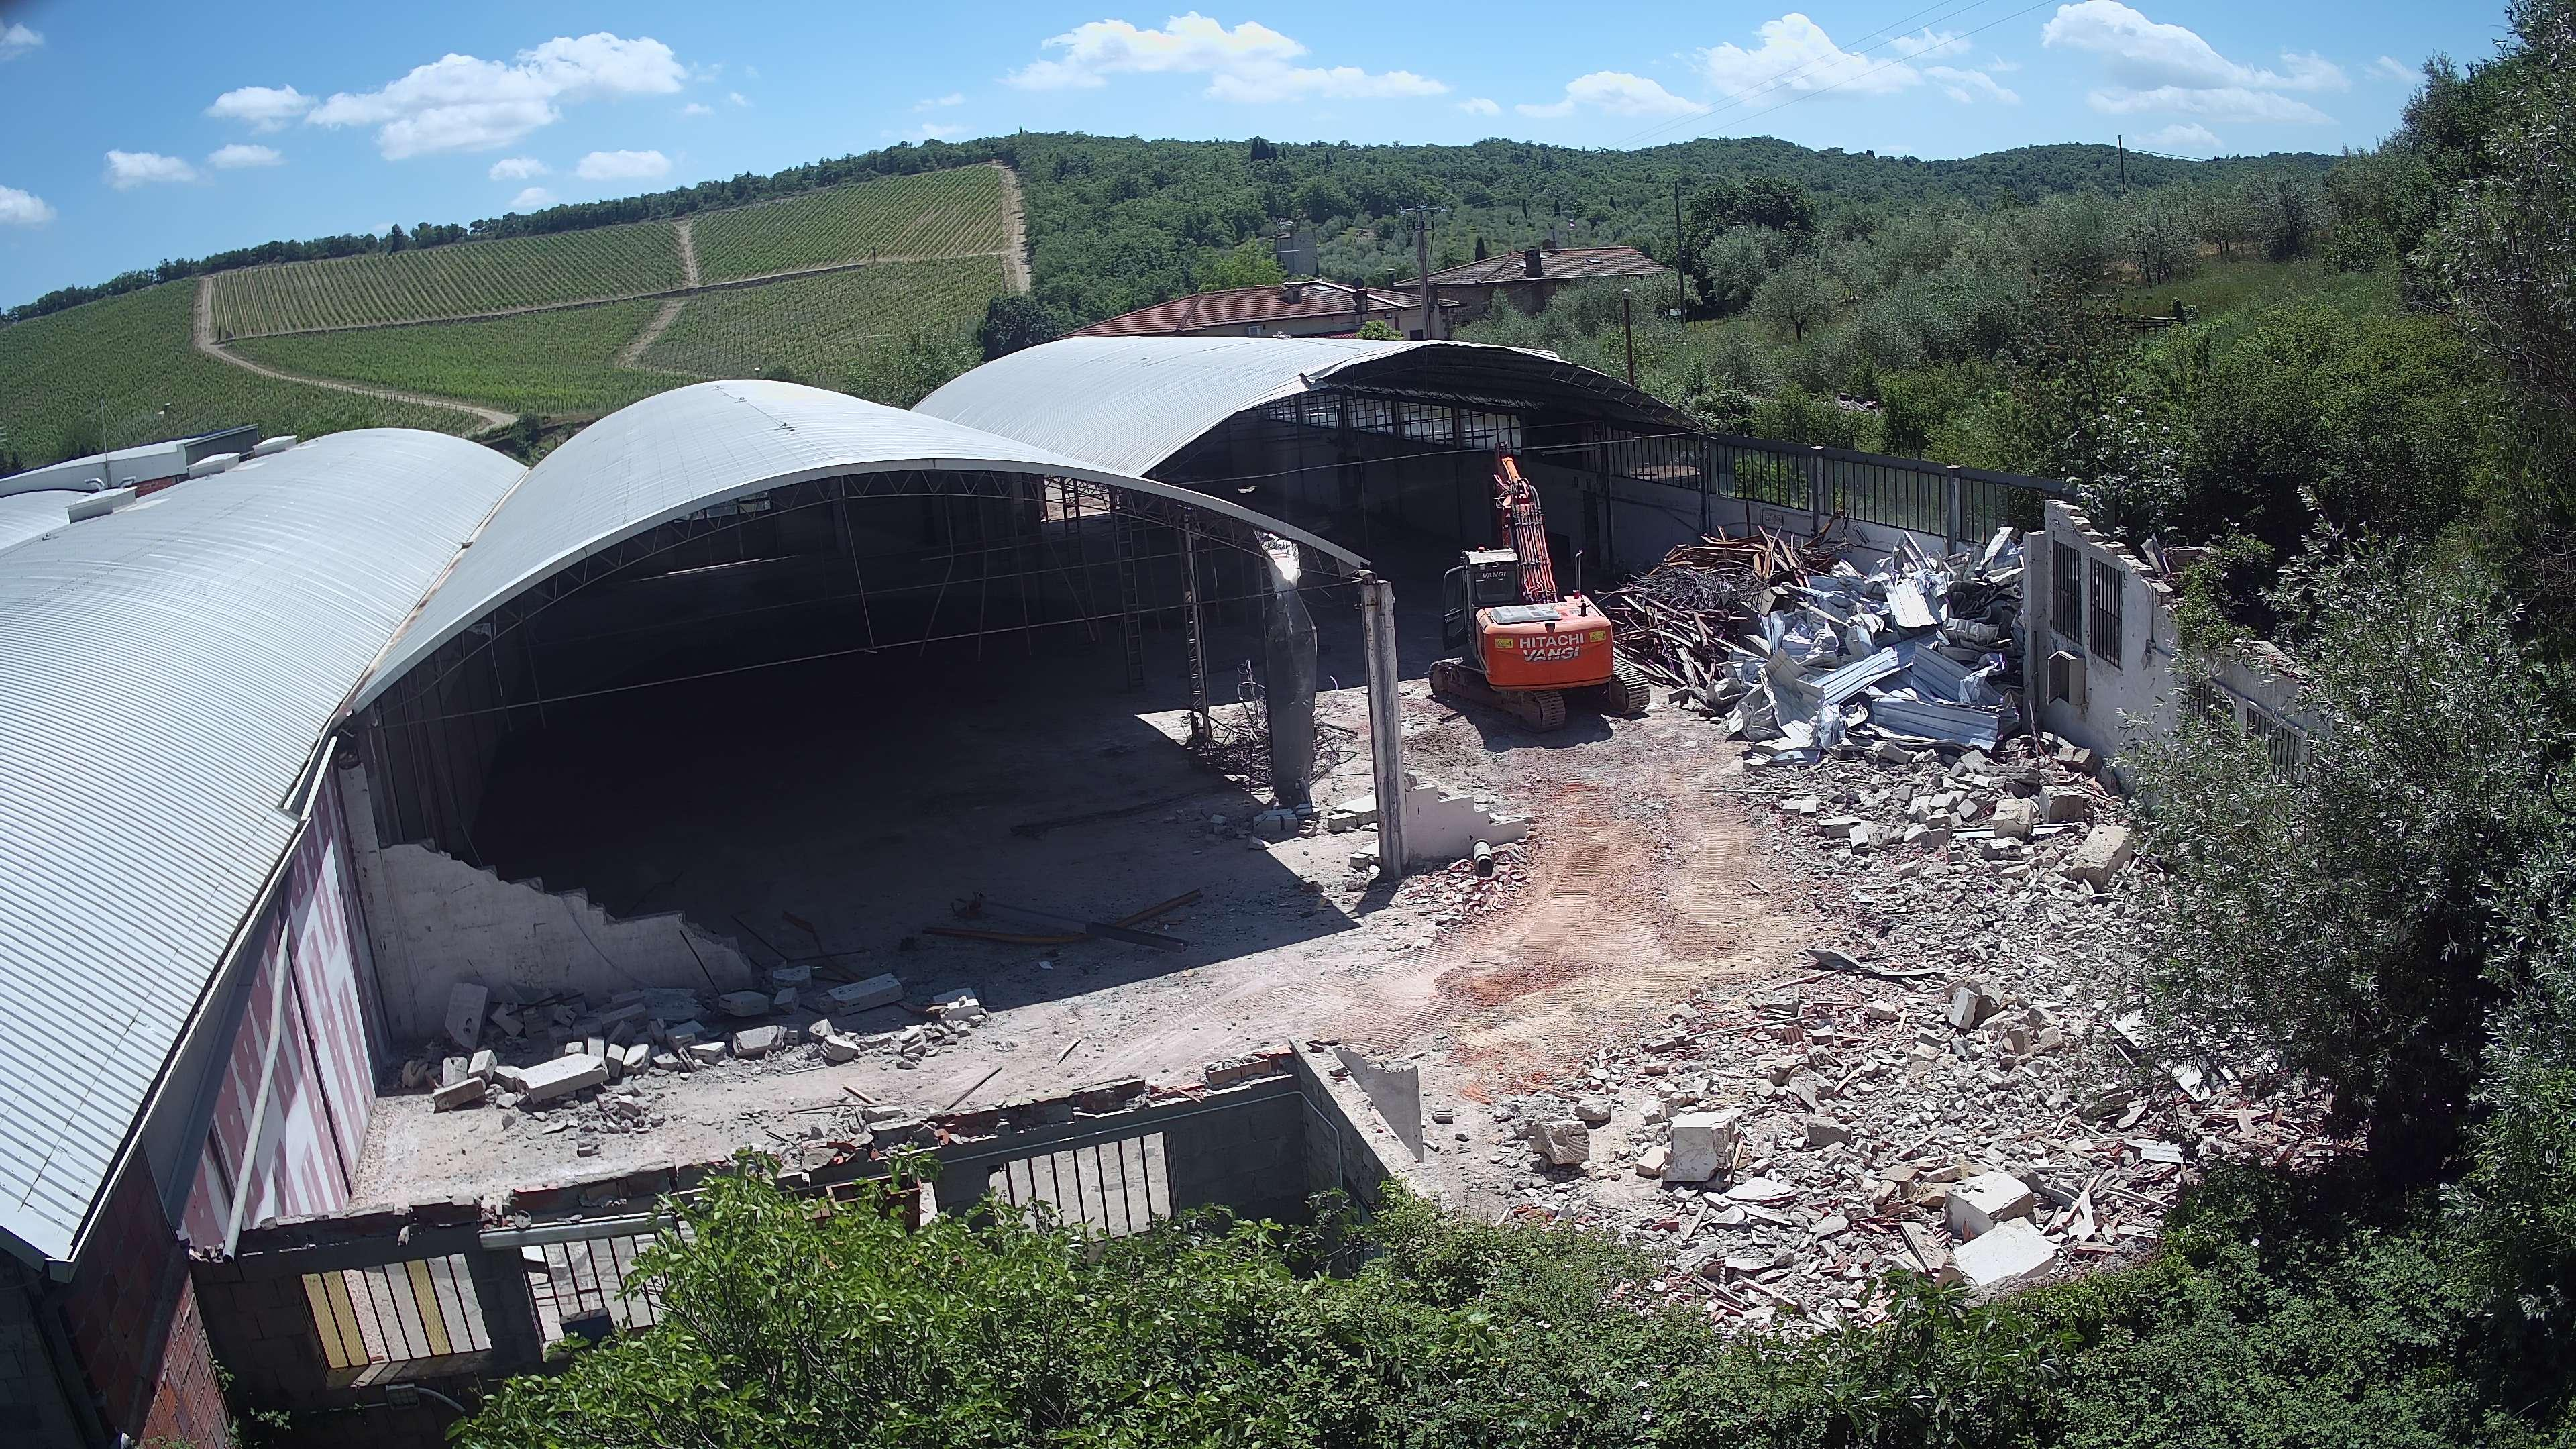excavator: (1428, 442, 1649, 734)
